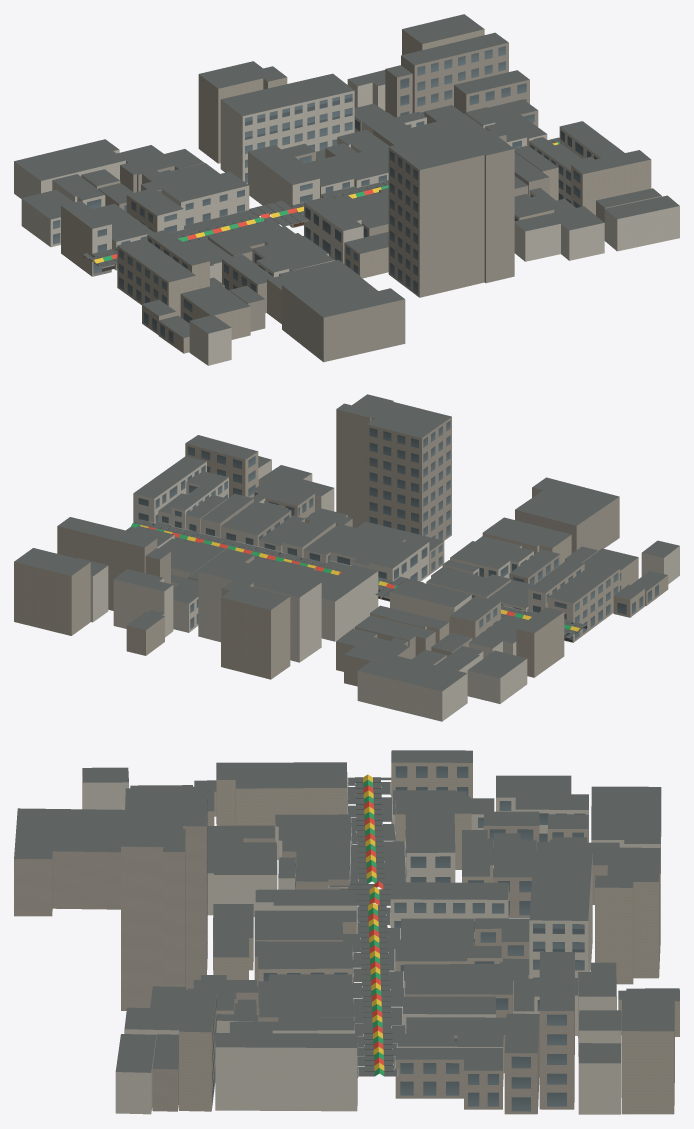
3 renders of one model, top to bottom at view 1: azimuth 30°, elevation 25°; view 2: azimuth 150°, elevation 25°; view 3: azimuth 270°, elevation 25°, orthographic. The views are drawn at different scales.
Parts seen in each view (by area): view 1: cell-e005-n001_base_roof, cell-e005-n001_base_tile-wall, cell-e005-n001_base_plaster, cell-e005-n001_base_stone, cell-e005-n001_base_glass, cell-e005-n001_base_Canopy_roof; view 2: cell-e005-n001_base_roof, cell-e005-n001_base_plaster, cell-e005-n001_base_stone, cell-e005-n001_base_tile-wall, cell-e005-n001_base_glass, cell-e005-n001_base_Canopy_roof; view 3: cell-e005-n001_base_roof, cell-e005-n001_base_tile-wall, cell-e005-n001_base_plaster, cell-e005-n001_base_stone, cell-e005-n001_base_Canopy_roof, cell-e005-n001_base_glass, cell-e005-n001_base_Canopy_nishiki-ridge-gold, cell-e005-n001_base_Canopy_nishiki-ridge-green, cell-e005-n001_base_Canopy_nishiki-ridge-red, cell-e005-n001_base_Canopy_frame, cell-e005-n001_base_market-metal.
Part boxes in pixels (box(x1,y1,x2,y2)): cell-e005-n001_base_roof: box(14, 14, 679, 337); cell-e005-n001_base_tile-wall: box(93, 42, 661, 362); cell-e005-n001_base_plaster: box(14, 79, 679, 365); cell-e005-n001_base_stone: box(61, 29, 651, 353); cell-e005-n001_base_glass: box(53, 46, 597, 343); cell-e005-n001_base_Canopy_roof: box(83, 137, 559, 267); cell-e005-n001_base_roof: box(14, 394, 679, 691); cell-e005-n001_base_plaster: box(90, 460, 679, 721); cell-e005-n001_base_stone: box(14, 443, 668, 679); cell-e005-n001_base_tile-wall: box(57, 401, 619, 686); cell-e005-n001_base_glass: box(138, 420, 658, 640); cell-e005-n001_base_Canopy_roof: box(126, 519, 586, 637); cell-e005-n001_base_roof: box(14, 750, 679, 1072); cell-e005-n001_base_tile-wall: box(14, 795, 607, 1114); cell-e005-n001_base_plaster: box(82, 769, 661, 1114); cell-e005-n001_base_stone: box(135, 762, 679, 1114); cell-e005-n001_base_Canopy_roof: box(329, 777, 406, 1076); cell-e005-n001_base_glass: box(207, 766, 585, 1111); cell-e005-n001_base_Canopy_nishiki-ridge-gold: box(363, 774, 384, 1070); cell-e005-n001_base_Canopy_nishiki-ridge-green: box(363, 780, 384, 1076); cell-e005-n001_base_Canopy_nishiki-ridge-red: box(363, 785, 383, 1065); cell-e005-n001_base_Canopy_frame: box(340, 777, 393, 1071); cell-e005-n001_base_market-metal: box(328, 778, 406, 1104).
Bounding box in the file's own units: 104 × 25.61 × 94.16.
Materials: 14 (6 with a texture image).
